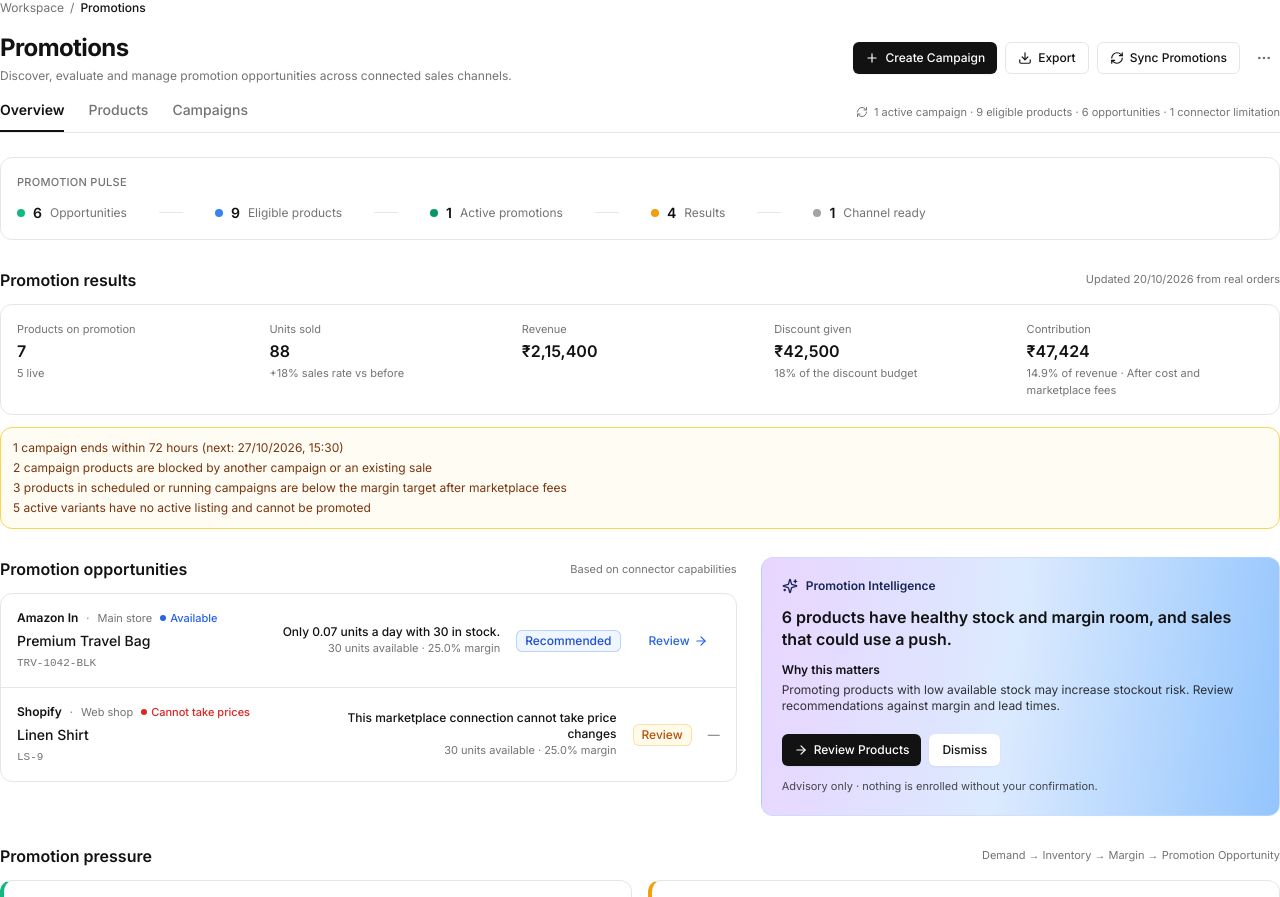
it: PromotionsPage - Connected Screens › Review on an opportunity opens the Create Campaign dialog
Expected: the text "Promotion pulse" is shown, top-left (17, 175), bottom-right (127, 189)
Click the button "Review". click: (678, 640)
box: top-left (636, 624), bottom-right (720, 656)
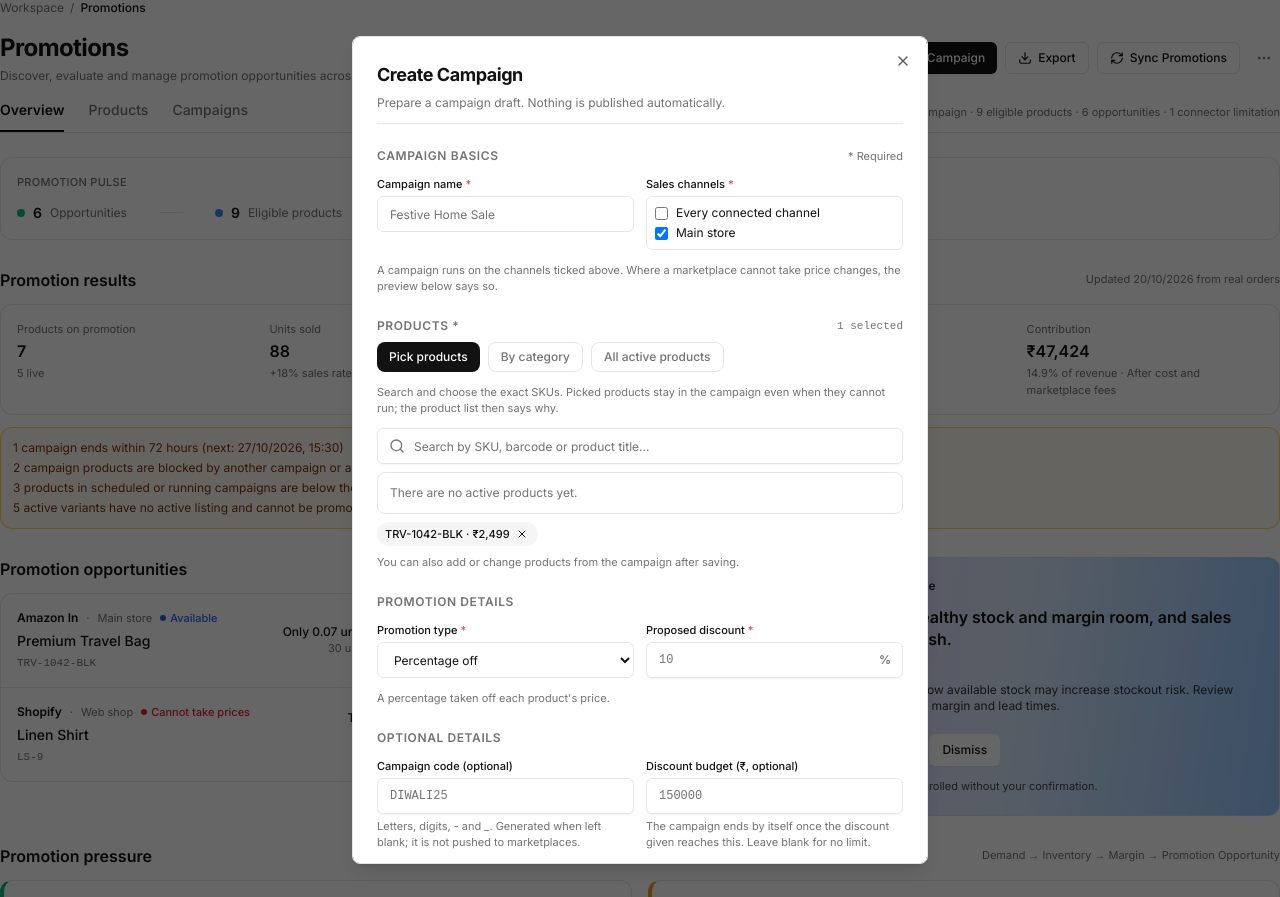
Now the dialog is shown, box top-left (352, 36), bottom-right (928, 864)
